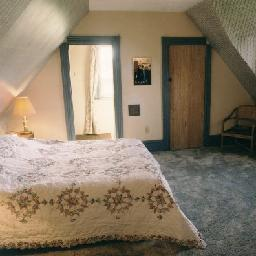Cama: (11, 137, 172, 244)
Puerta: (164, 40, 209, 148)
